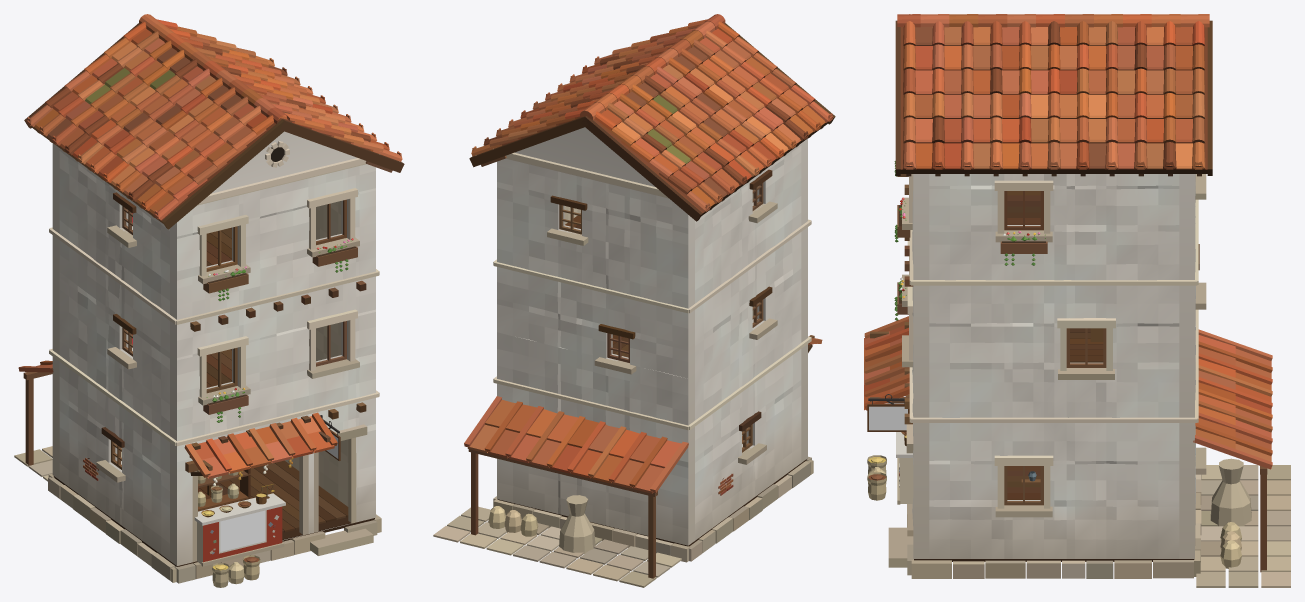
The model's file is artisan_1_3.glb.
The picture shows the model from 3 angles, left to right: view 1: azimuth 30°, elevation 25°; view 2: azimuth 150°, elevation 25°; view 3: azimuth 270°, elevation 25°; orthographic projection. The views are drawn at different scales.
Parts seen in each view (by area): view 1: House, Walls, Rooms; view 2: Walls, House; view 3: House, Walls, Rooms.
Boxes of the visible parts, bbox=[...] form: House: bbox=[14, 14, 404, 587]; Walls: bbox=[52, 131, 375, 565]; Rooms: bbox=[121, 201, 348, 532]; Walls: bbox=[497, 127, 807, 545]; House: bbox=[433, 14, 835, 587]; House: bbox=[864, 14, 1290, 587]; Walls: bbox=[912, 174, 1195, 558]; Rooms: bbox=[1007, 191, 1103, 499].
Size of the model in its own units: 4.45 by 7.73 by 5.9.
7 materials, 7 textured.
